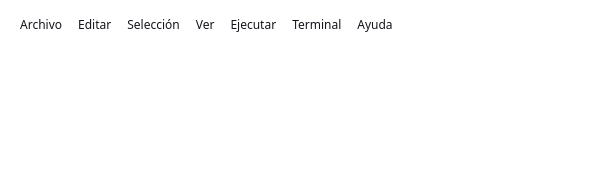
Test case: MenuBar › da la vuelta al pasarse del último menú
Click the menu item with test id "menu-trigger-help".
click(375, 24)  # box top-left (349, 12), bottom-right (401, 37)
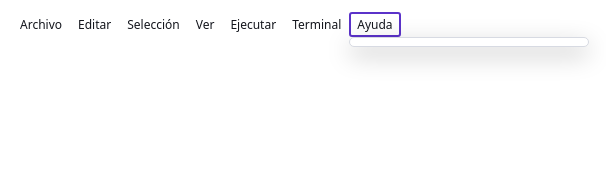
Press Arrowright
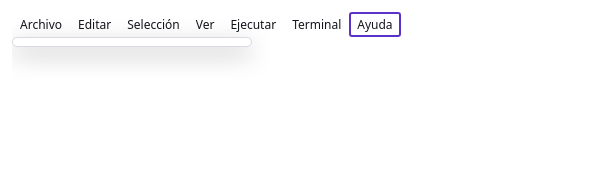
Check: the menu with test id "menu-file" is shown, box top-left (12, 37), bottom-right (252, 47)
